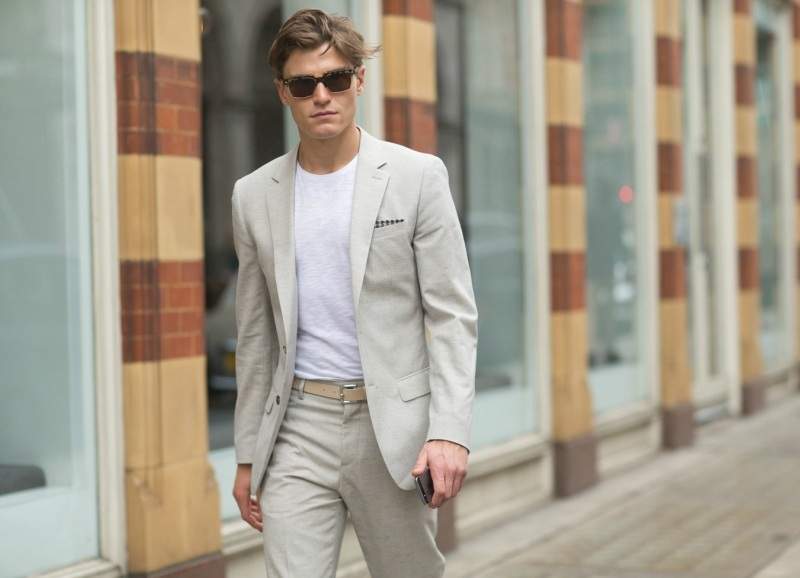NOTSAFE: (257, 9, 424, 424)
